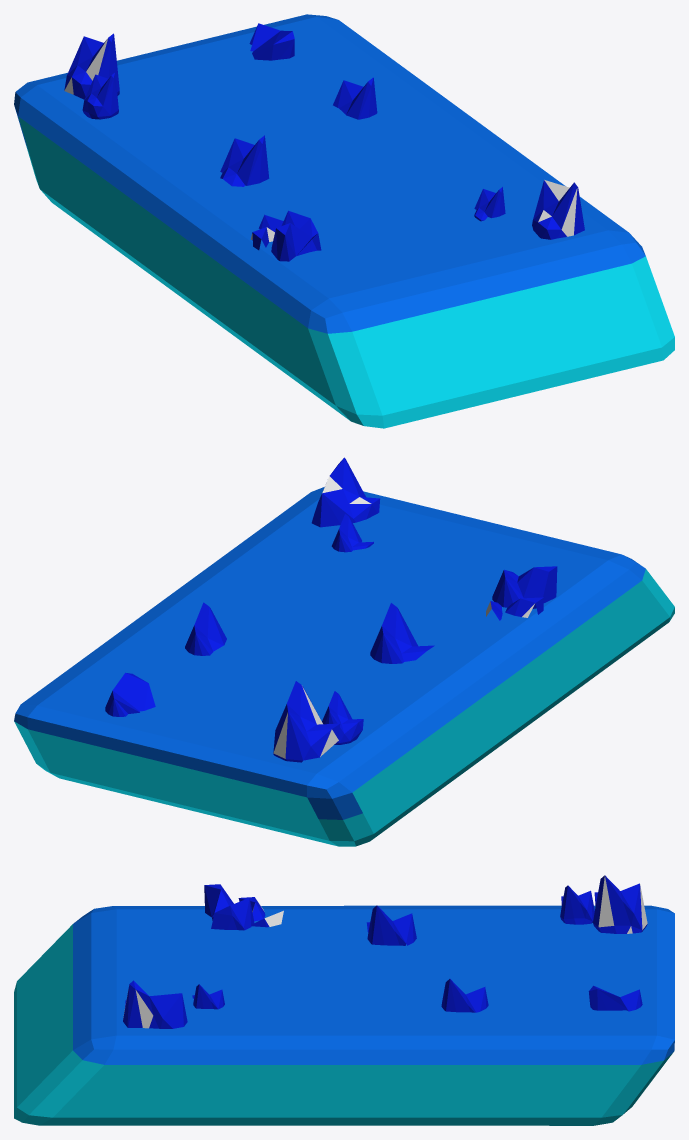
The model's file is голубая платформа .fbx.
3 views of the same model, one above another, from view 1: azimuth 30°, elevation 25°; view 2: azimuth 150°, elevation 25°; view 3: azimuth 270°, elevation 25° (orthographic). The views are drawn at different scales.
Parts seen in each view (by area): view 1: Cube, Icosphere.008, Icosphere.001, Icosphere.006, Icosphere.004, Icosphere.007, Icosphere.003, Icosphere, Icosphere.002, Icosphere.005; view 2: Cube, Icosphere.001, Icosphere.008, Icosphere.006, Icosphere.004, Icosphere.007, Icosphere.003, Icosphere, Icosphere.002, Icosphere.005; view 3: Cube, Icosphere.001, Icosphere.008, Icosphere.004, Icosphere.006, Icosphere.003, Icosphere, Icosphere.007, Icosphere.002, Icosphere.005.
Part boxes in pixels (<box>): Cube: <box>14,14,674,428</box>; Icosphere.008: <box>532,180,584,239</box>; Icosphere.001: <box>64,33,119,99</box>; Icosphere.006: <box>220,135,269,186</box>; Icosphere.004: <box>271,210,321,261</box>; Icosphere.007: <box>249,23,294,60</box>; Icosphere.003: <box>333,77,377,119</box>; Icosphere: <box>82,72,118,119</box>; Icosphere.002: <box>474,187,505,221</box>; Icosphere.005: <box>250,214,283,250</box>; Cube: <box>14,487,674,846</box>; Icosphere.001: <box>273,681,340,762</box>; Icosphere.008: <box>311,457,380,527</box>; Icosphere.006: <box>370,603,434,663</box>; Icosphere.004: <box>492,566,557,607</box>; Icosphere.007: <box>105,672,155,716</box>; Icosphere.003: <box>185,602,226,655</box>; Icosphere: <box>322,691,363,744</box>; Icosphere.002: <box>331,514,373,552</box>; Icosphere.005: <box>486,597,543,620</box>; Cube: <box>14,905,674,1125</box>; Icosphere.001: <box>593,875,647,933</box>; Icosphere.008: <box>123,980,187,1028</box>; Icosphere.004: <box>204,884,254,930</box>; Icosphere.006: <box>366,905,416,945</box>; Icosphere.003: <box>441,979,488,1012</box>; Icosphere: <box>560,885,594,924</box>; Icosphere.007: <box>588,985,642,1011</box>; Icosphere.002: <box>192,984,224,1009</box>; Icosphere.005: <box>238,897,283,927</box>.
Size of the model in its own units: 478 by 211 by 884.
